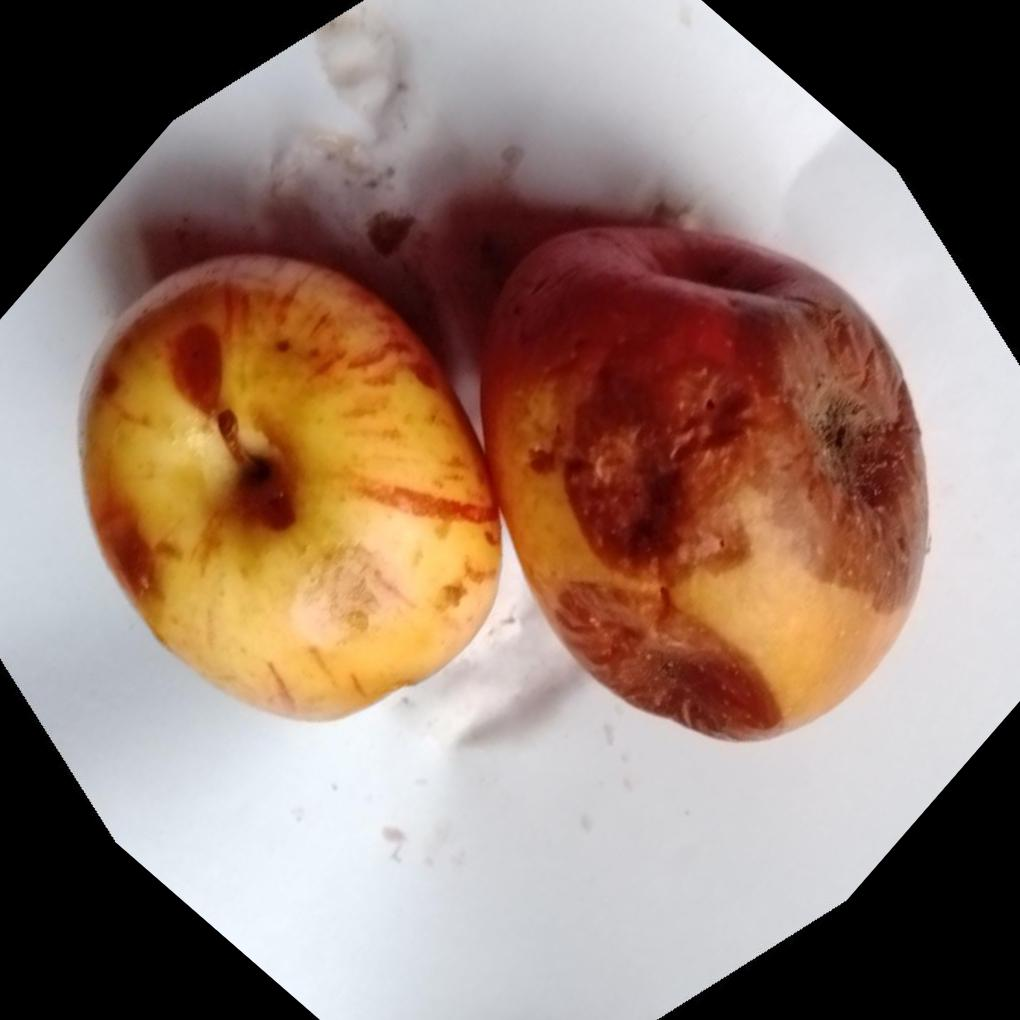FreshOrange: (76, 225, 928, 743)
